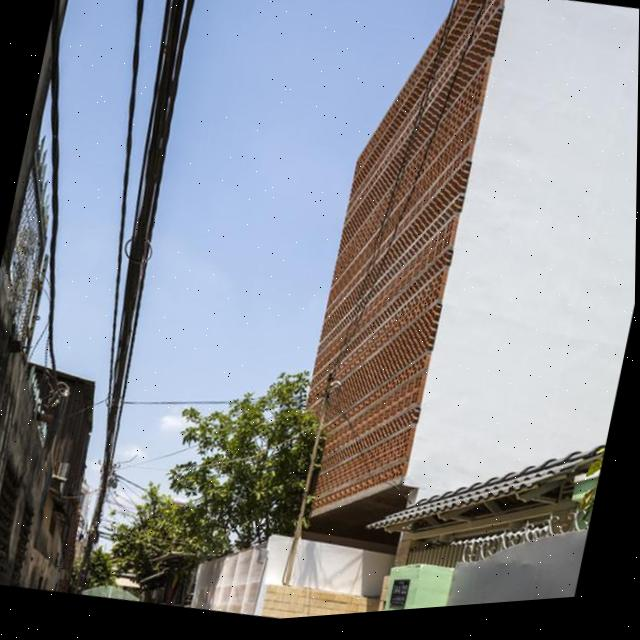building: (281, 0, 640, 578)
